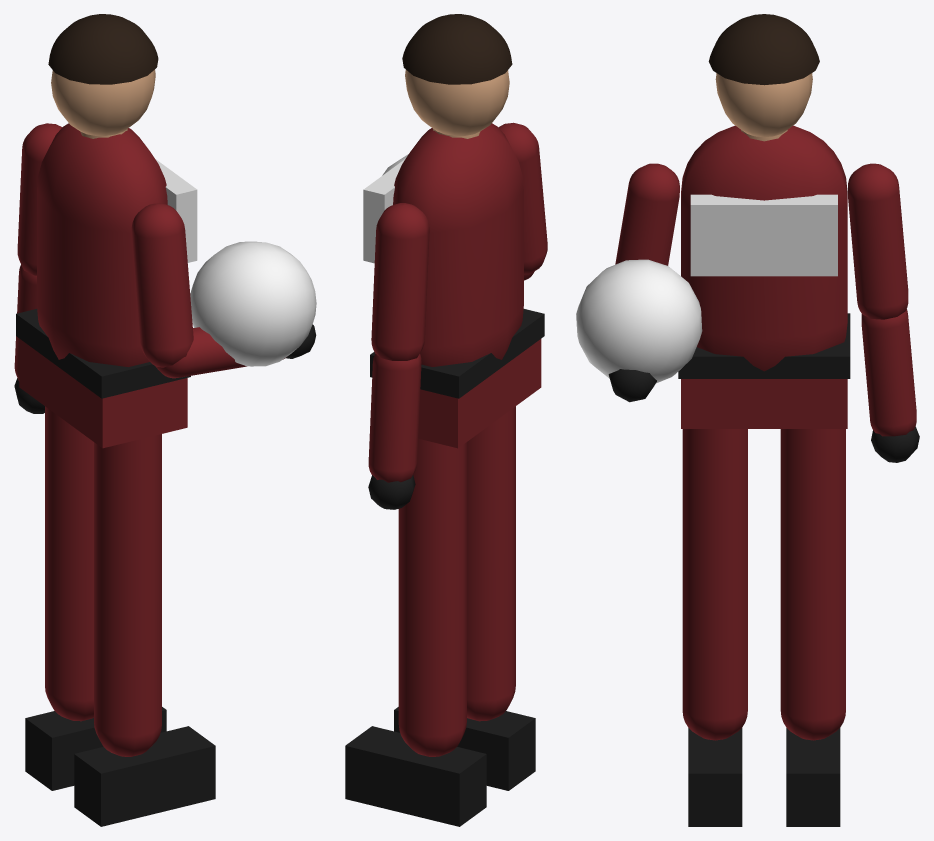
Rendered from pilot_helmetless.glb.
3 views of the same model, side by side, from view 1: azimuth 30°, elevation 25°; view 2: azimuth 150°, elevation 25°; view 3: azimuth 270°, elevation 25° (orthographic).
Visible parts, largest first — view 1: pilot_helmetless, object 6, object 4, object 2; view 2: pilot_helmetless, object 2, object 3; view 3: pilot_helmetless, object 6, object 2, object 5, object 3.
Boxes of the visible parts, left/top/right/bottom form: pilot_helmetless: left=16, top=14, right=215, bottom=826; object 6: left=190, top=241, right=316, bottom=366; object 4: left=155, top=327, right=287, bottom=378; object 2: left=14, top=265, right=36, bottom=381; pilot_helmetless: left=345, top=14, right=547, bottom=826; object 2: left=368, top=353, right=421, bottom=482; object 3: left=368, top=475, right=415, bottom=509; pilot_helmetless: left=615, top=14, right=908, bottom=826; object 6: left=576, top=259, right=702, bottom=383; object 2: left=861, top=309, right=916, bottom=436; object 5: left=608, top=369, right=656, bottom=402; object 3: left=871, top=426, right=919, bottom=462.
Bounding box in the file's own units: 0.4592 × 1.74 × 0.7022.
